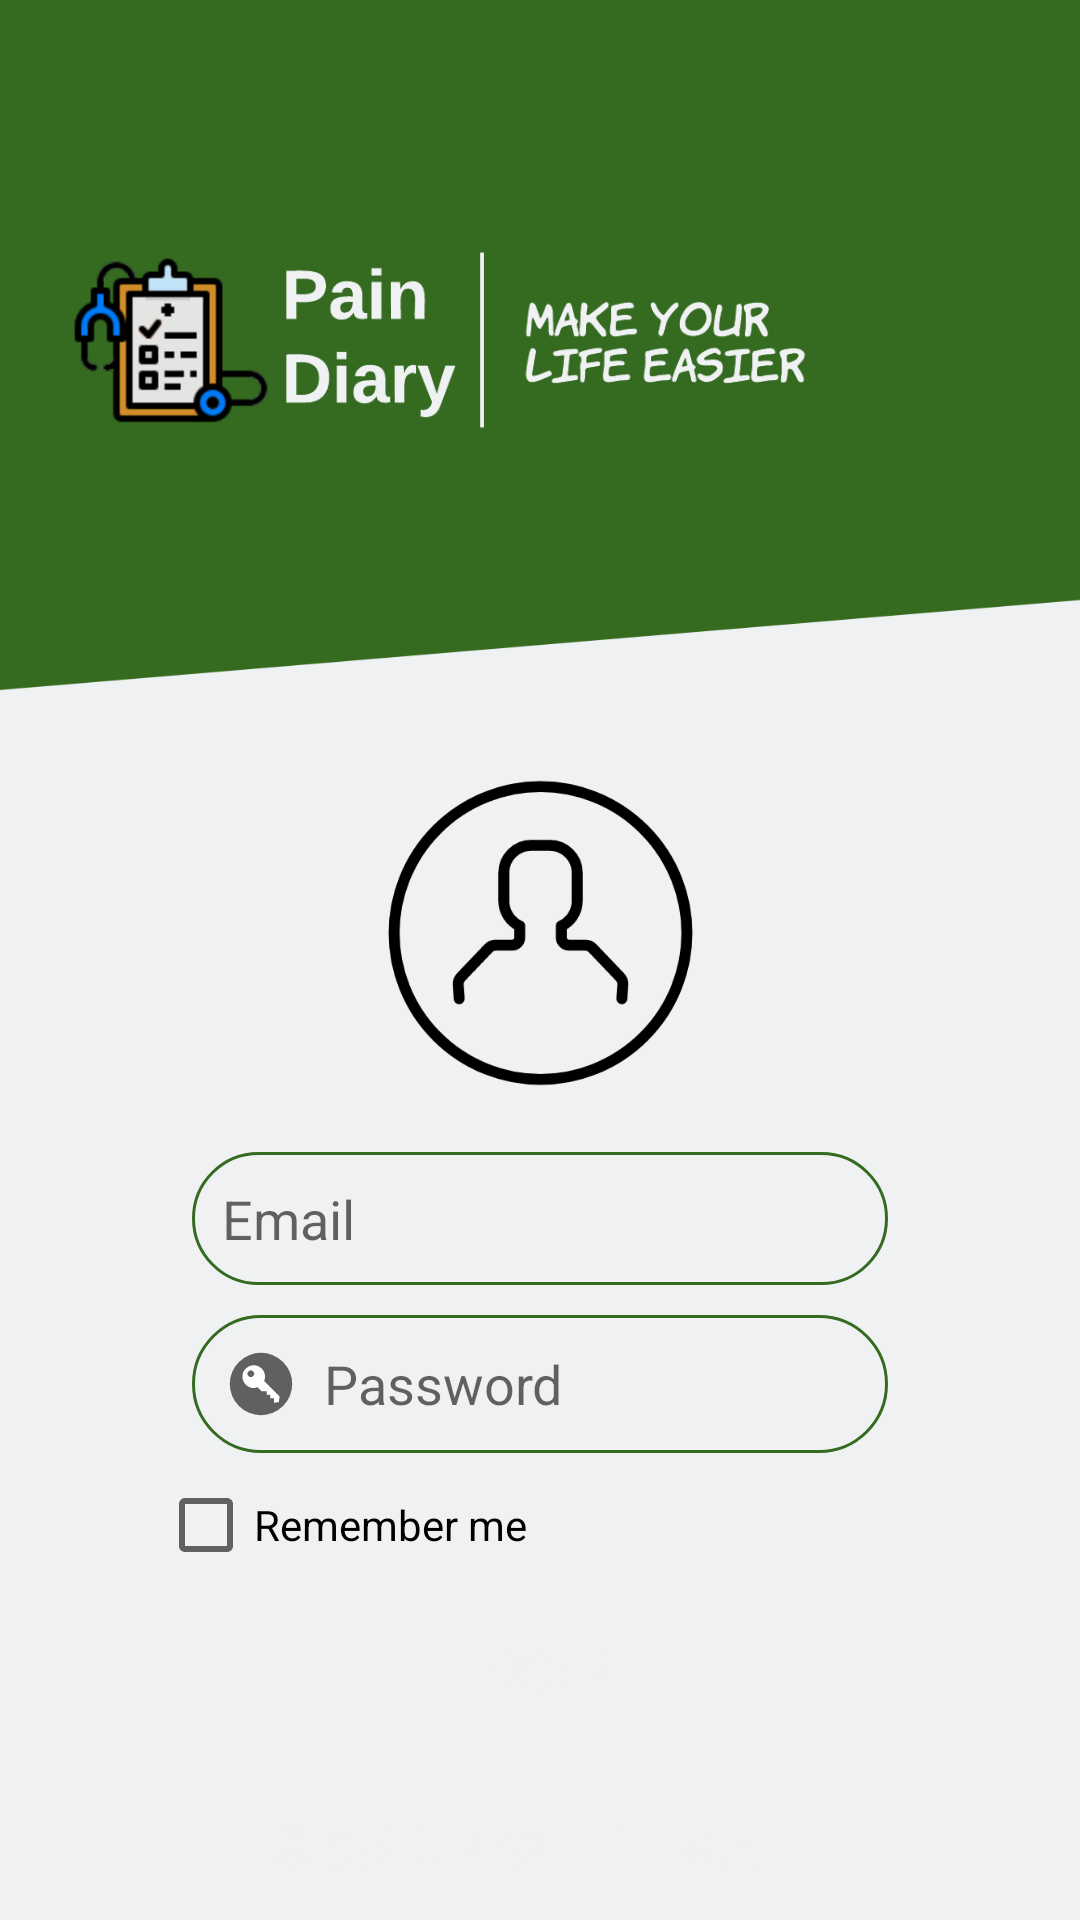

Where icons sit on this 1080 x 1920 app screen, as (x1, y1, x2, y2):
people: (388, 780, 693, 1086)
